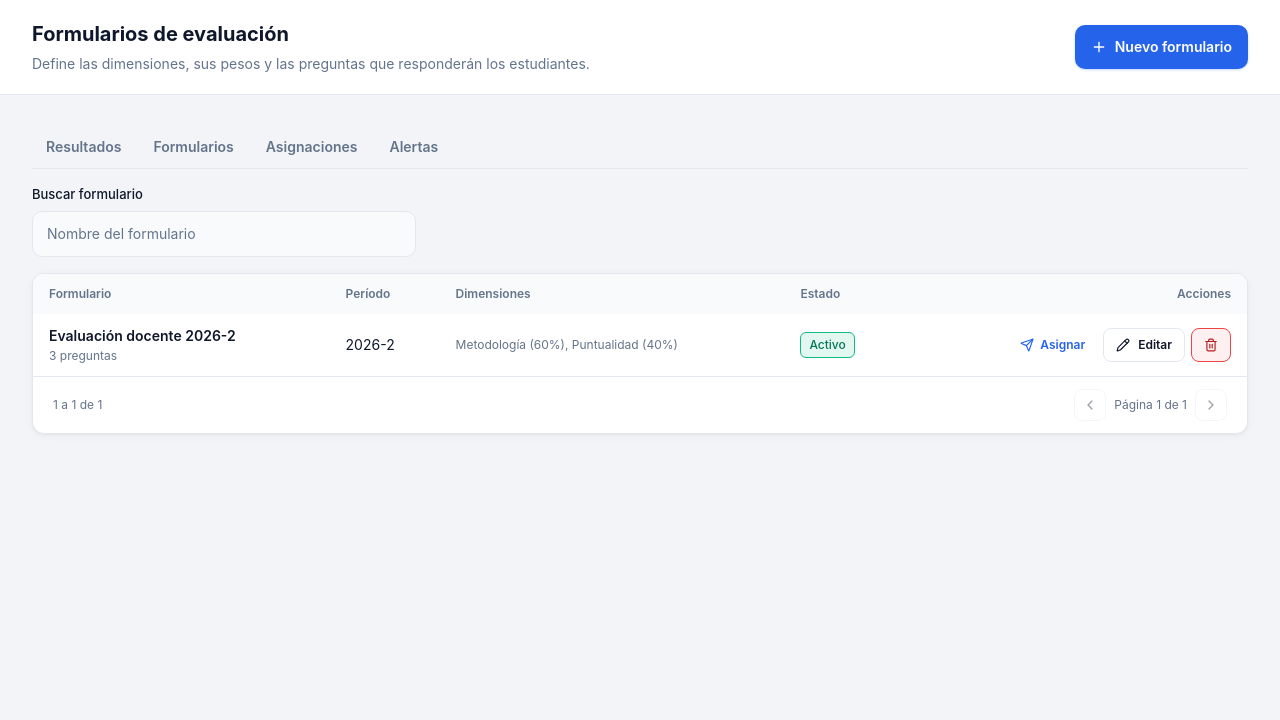
Scenario: Formularios de evaluación (RF-28 a RF-30) › elimina un formulario tras confirmar
The image size is (1280, 720).
Click the button named "Eliminar Evaluación docente 2026-2": [1211, 344] box top-left (1191, 328), bottom-right (1231, 362)
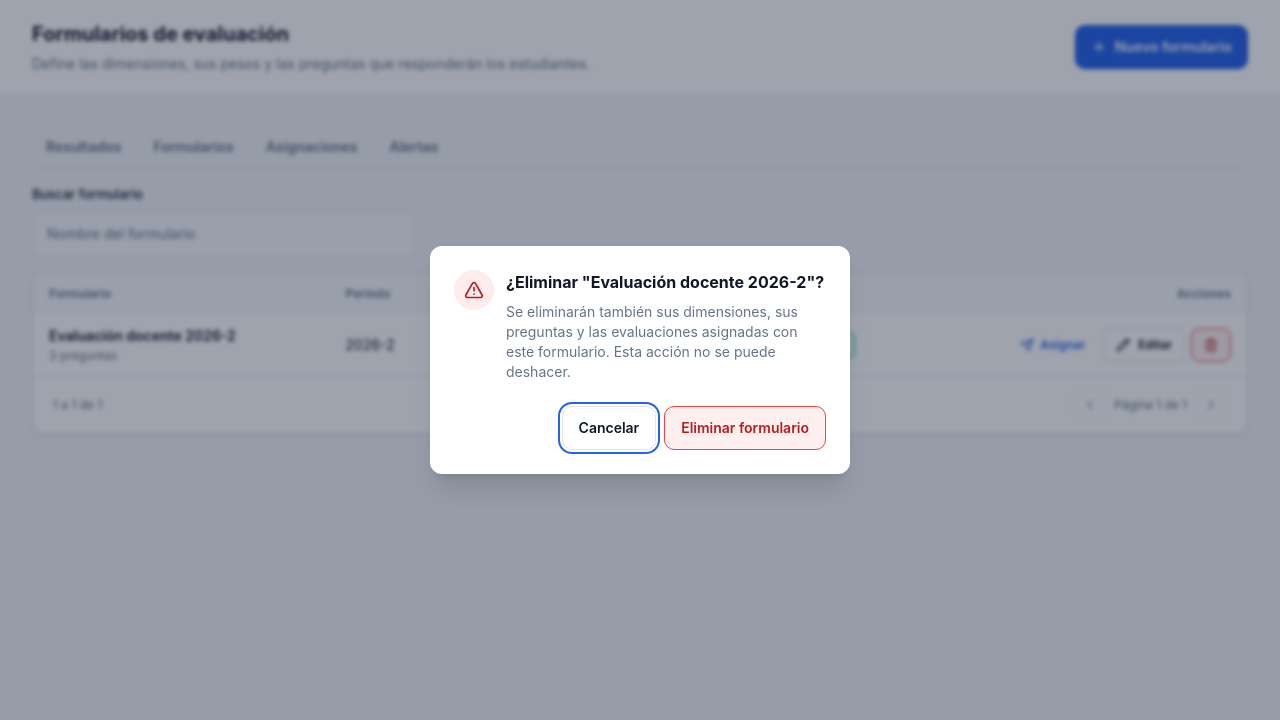
Click the button "Eliminar formulario": [745, 428] box top-left (664, 406), bottom-right (826, 450)
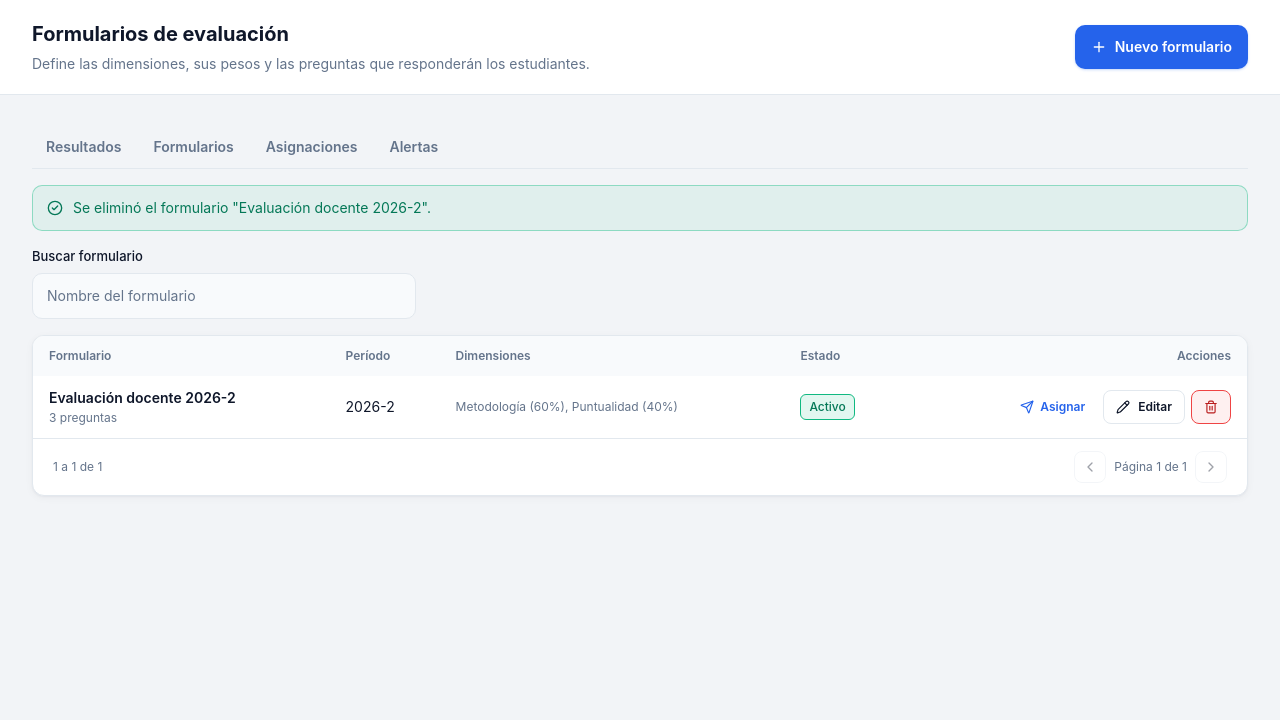
Now the text "Se eliminó el formulario \"Evaluación docente 2026-2\"." is shown, box top-left (73, 198), bottom-right (431, 218)
